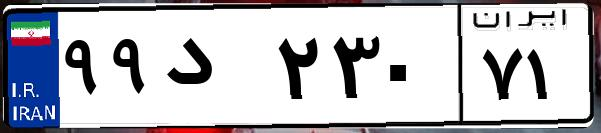0: (385, 28, 445, 110)
1: (525, 38, 570, 115)
2: (270, 28, 330, 110)
3: (330, 28, 385, 110)
7: (475, 38, 525, 113)
9: (57, 26, 110, 100), (110, 28, 158, 98)
د: (158, 20, 270, 120)
